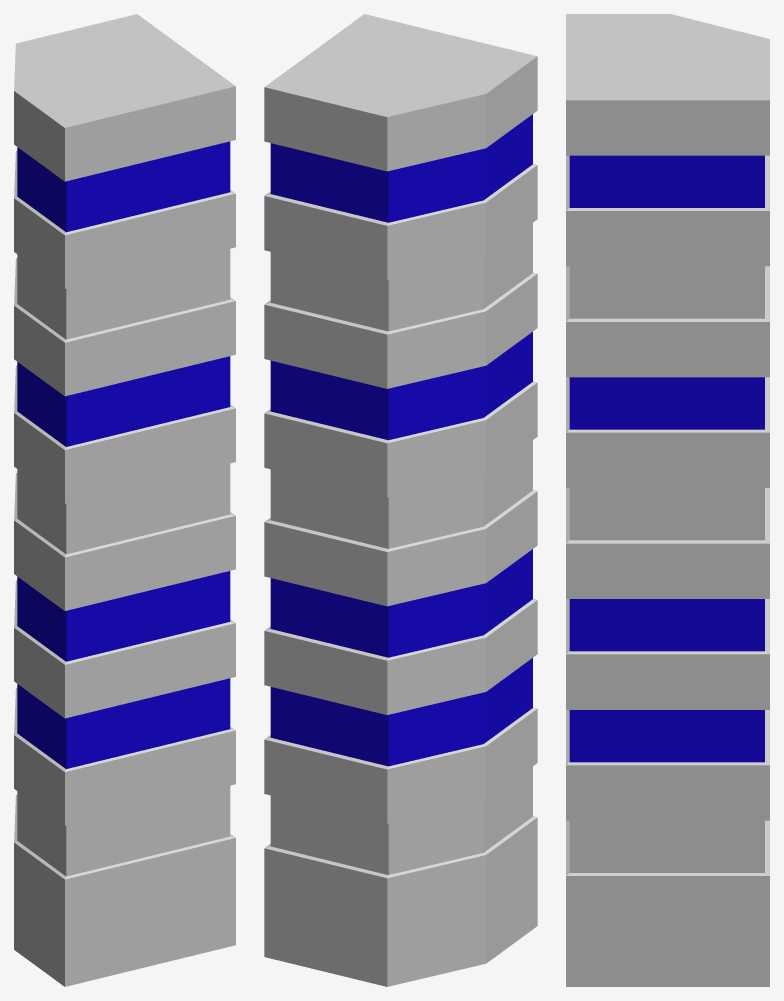
The model's file is building6.fbx.
3 views of the same model, side by side, from view 1: azimuth 30°, elevation 25°; view 2: azimuth 150°, elevation 25°; view 3: azimuth 270°, elevation 25° (orthographic). The views are drawn at different scales.
Parts seen in each view (by area): view 1: Cube; view 2: Cube; view 3: Cube.
Part boxes in pixels (<box>): Cube: <box>14,14,235,986</box>; Cube: <box>264,14,537,986</box>; Cube: <box>566,14,769,986</box>.
Size of the model in its own units: 1810 by 8684 by 1810.
